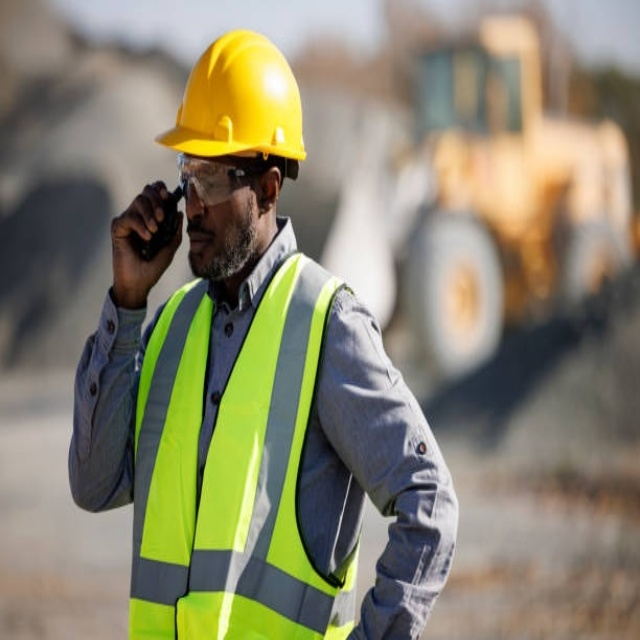Gafas: (176, 152, 266, 204)
Sin_guantes: (109, 186, 182, 303)
Sin_mascara: (185, 212, 224, 270)
